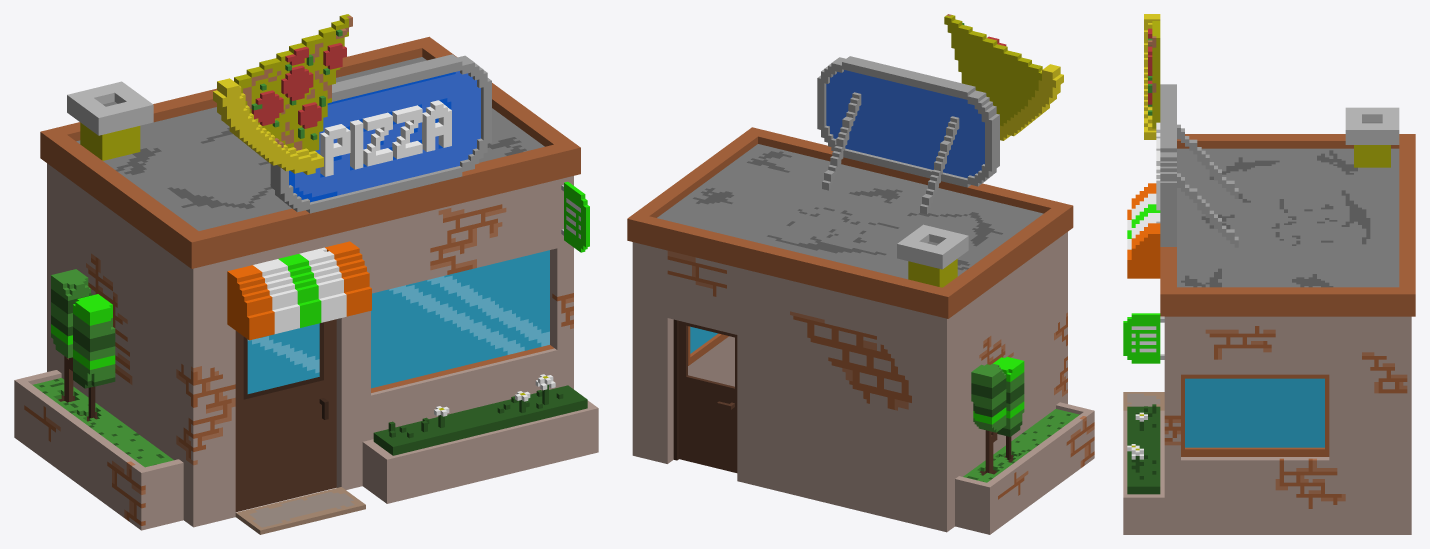
File: pizza store.obj
3 renders of one model, left to right at view 1: azimuth 30°, elevation 25°; view 2: azimuth 150°, elevation 25°; view 3: azimuth 270°, elevation 25°, orthographic. The views are drawn at different scales.
Size of the model in its own units: 10.1 by 10.8 by 7.1.
Materials: 1 (1 with a texture image).
